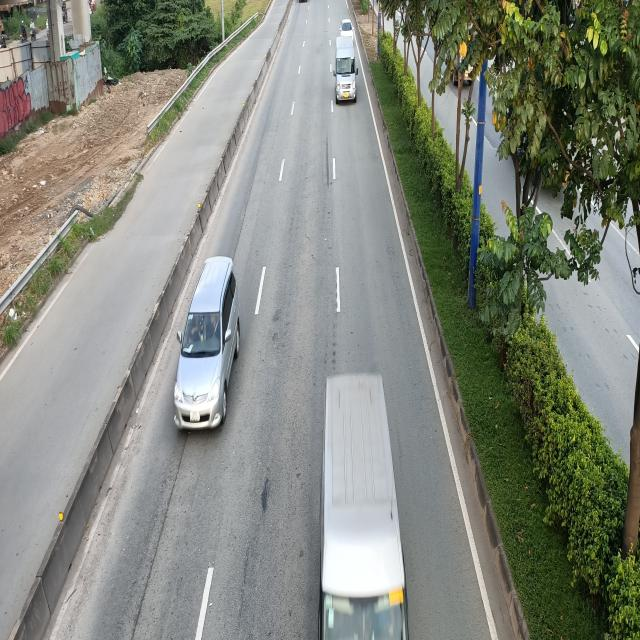car: (175, 259, 241, 431)
van: (319, 374, 409, 640), (334, 33, 360, 106)
